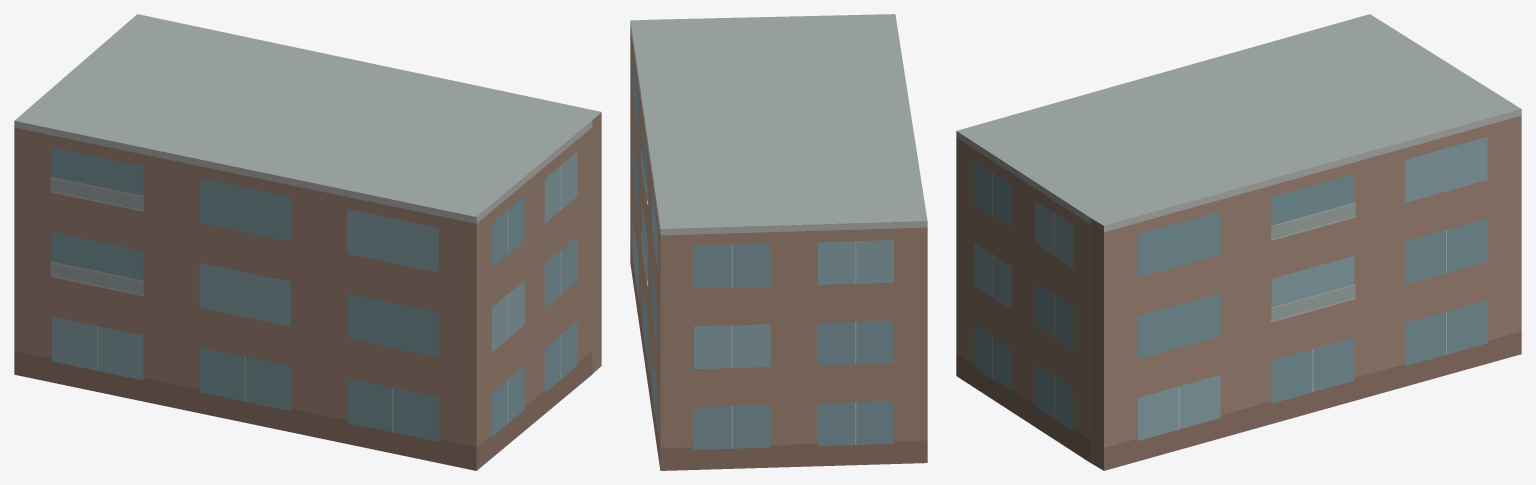
The model's file is survey-upis-32687690.glb.
3 views of the same model, side by side, from view 1: azimuth 30°, elevation 25°; view 2: azimuth 150°, elevation 25°; view 3: azimuth 270°, elevation 25° (orthographic). The views are drawn at different scales.
Parts seen in each view (by area): view 1: survey-upis-32687690.tmp; view 2: survey-upis-32687690.tmp; view 3: survey-upis-32687690.tmp.
Boxes of the visible parts, left/top/right/bottom form: survey-upis-32687690.tmp: left=14, top=14, right=601, bottom=470; survey-upis-32687690.tmp: left=630, top=14, right=927, bottom=470; survey-upis-32687690.tmp: left=956, top=14, right=1521, bottom=470.
Bounding box in the file's own units: 16.97 × 9.15 × 19.14.
